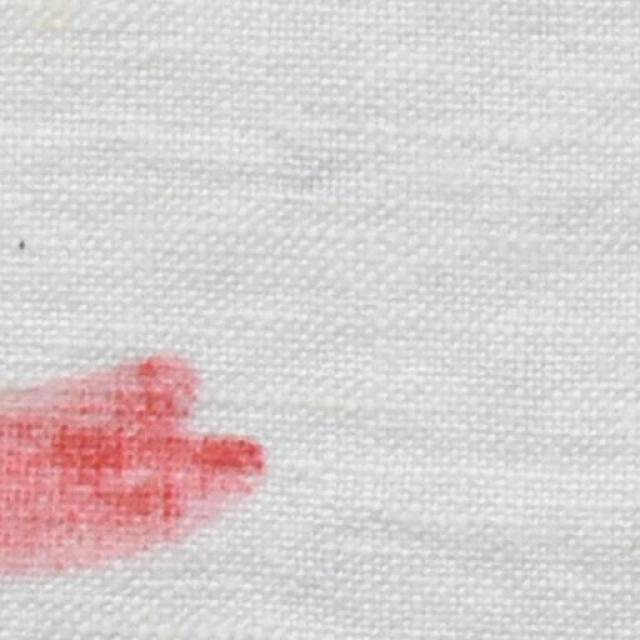Stain: (0, 356, 265, 574)
